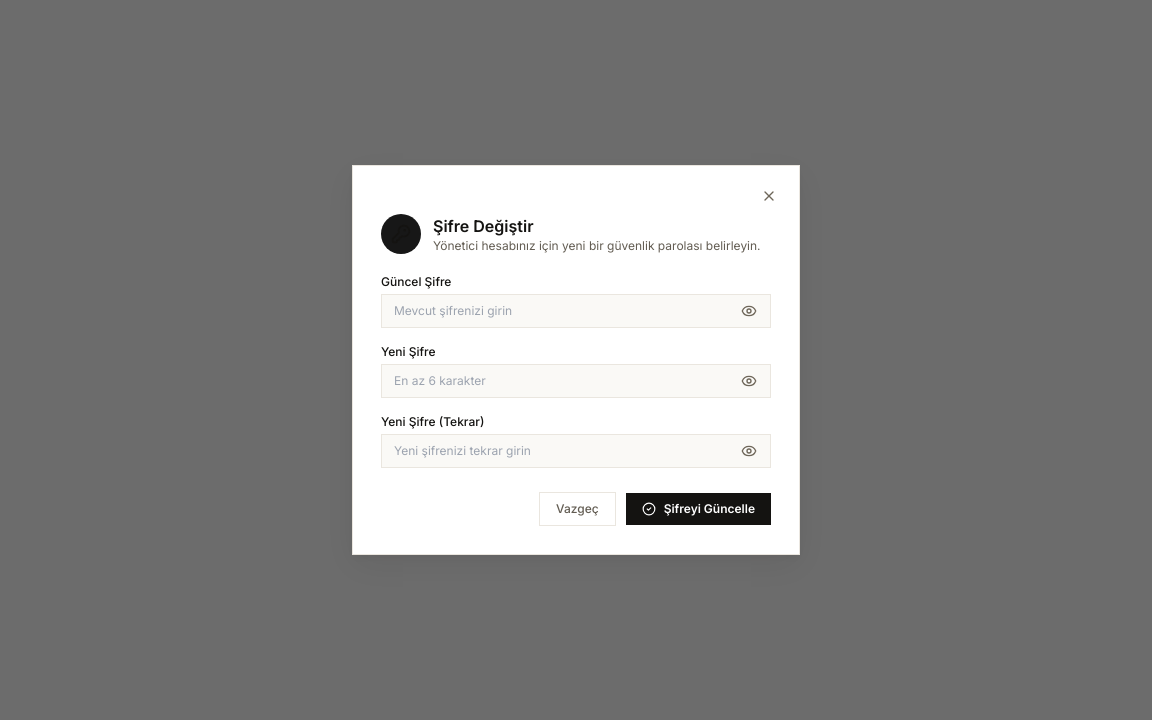
it: AdminChangePasswordModal › shows error when new passwords do not match
Step 1. Type "OldPass123!" into the password field with placeholder "Mevcut şifrenizi girin" → (576, 311), box [381,294,771,328]
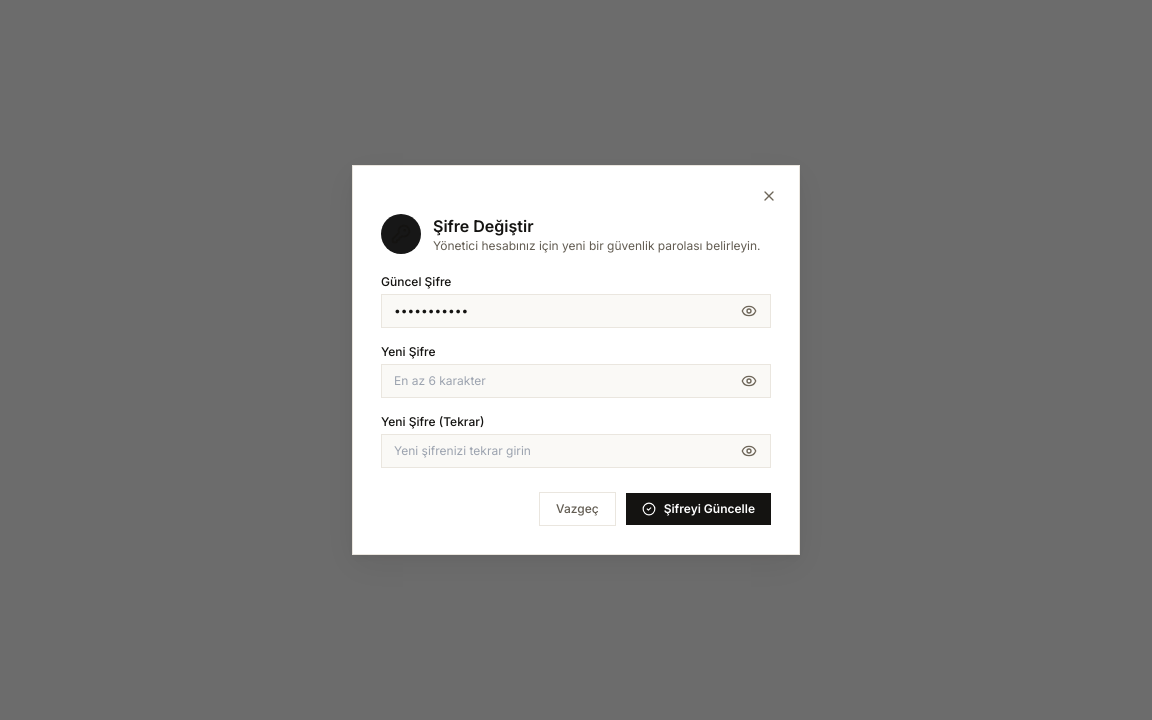
Step 2. Type "NewPass123!" into the password field with placeholder "En az 6 karakter" → (576, 381), box [381,364,771,398]
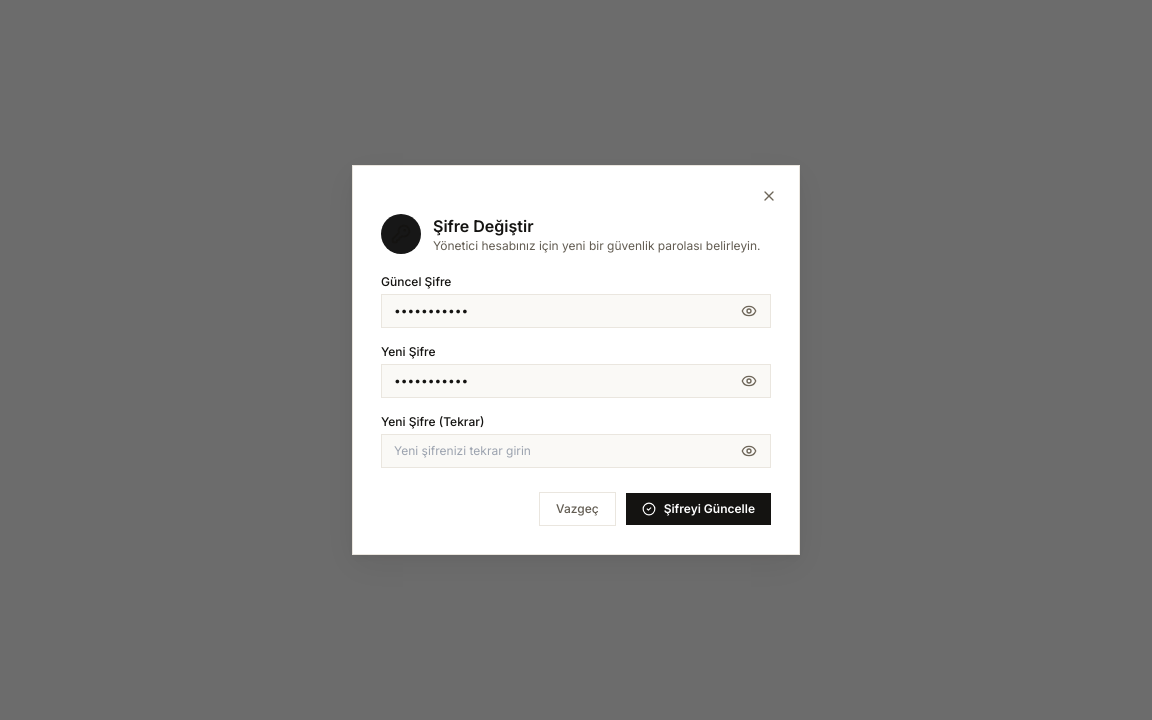
Step 3. Type "DifferentPass123!" into the password field with placeholder "Yeni şifrenizi tekrar girin" → (576, 451), box [381,434,771,468]
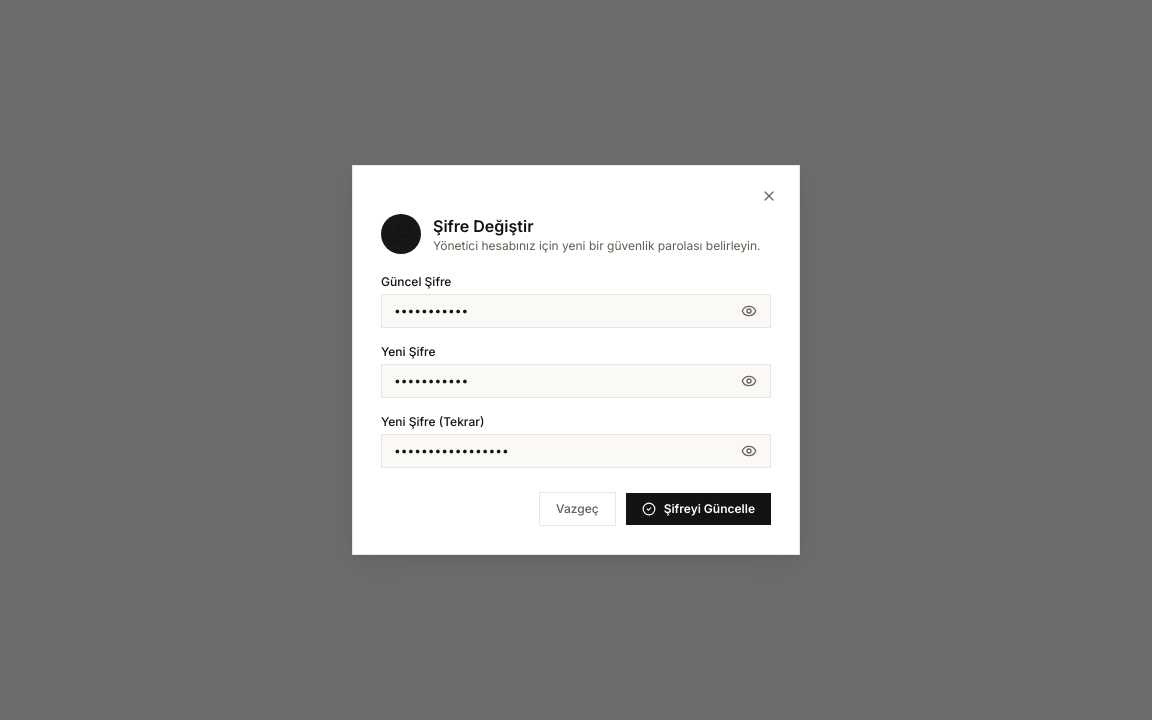
Step 4. Submit the form "Şifreyi Güncelle", box [381,274,771,526]
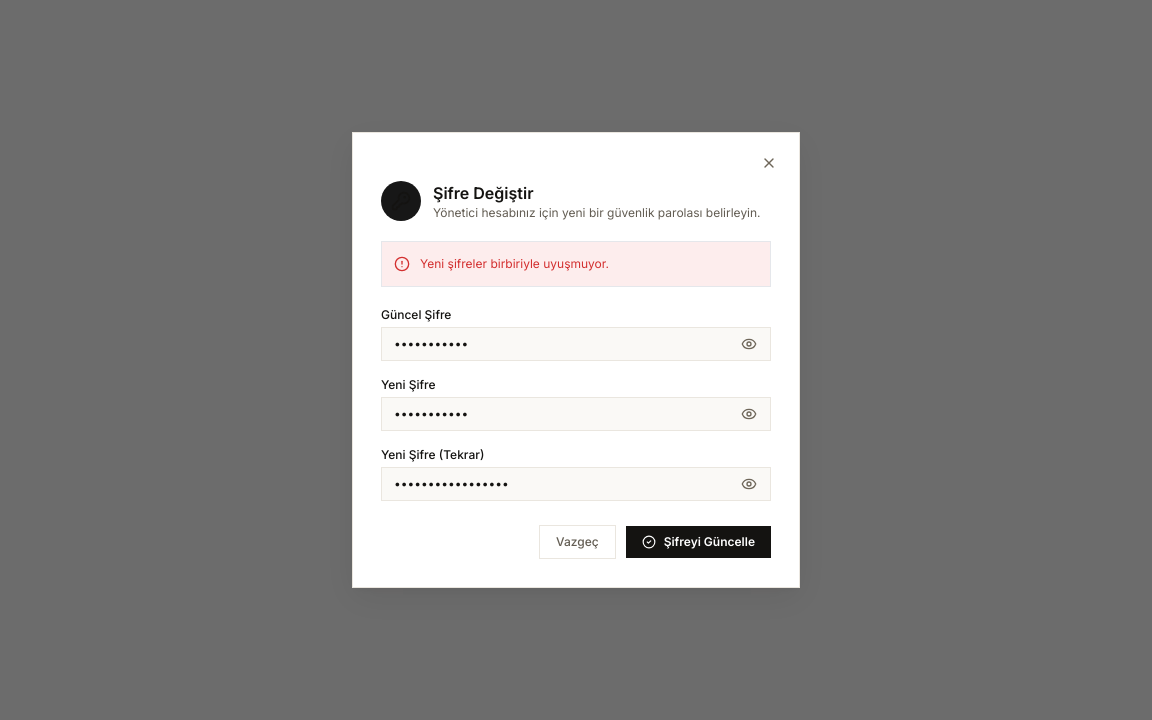
Check: the text "Yeni şifreler birbiriyle uyuşmuyor." is shown, box [420,254,609,274]
